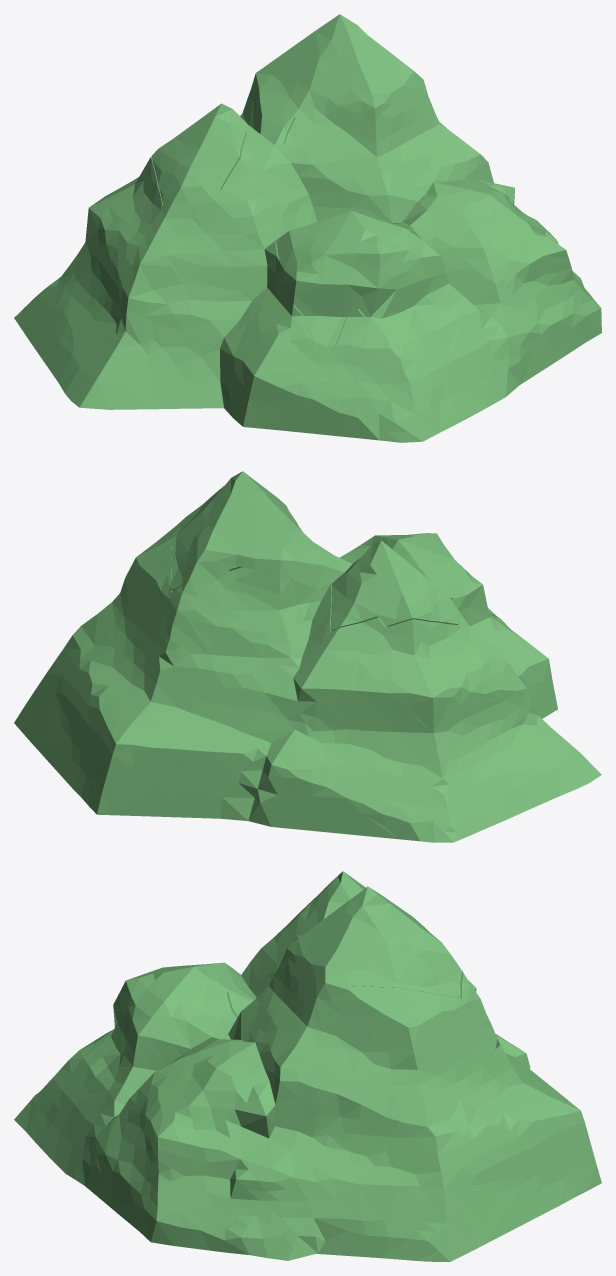
File: Mountains1.glb
3 renders of one model, top to bottom at view 1: azimuth 30°, elevation 25°; view 2: azimuth 150°, elevation 25°; view 3: azimuth 270°, elevation 25°, orthographic. The views are drawn at different scales.
Parts seen in each view (by area): view 1: Mesh_Mesh_head_geo.001_lambert2SG.001; view 2: Mesh_Mesh_head_geo.001_lambert2SG.001; view 3: Mesh_Mesh_head_geo.001_lambert2SG.001.
Part boxes in pixels (left/top/right/bottom): Mesh_Mesh_head_geo.001_lambert2SG.001: left=14, top=14, right=601, bottom=442; Mesh_Mesh_head_geo.001_lambert2SG.001: left=14, top=471, right=601, bottom=842; Mesh_Mesh_head_geo.001_lambert2SG.001: left=14, top=871, right=601, bottom=1261.
Bounding box in the file's own units: 0.194 × 0.101 × 0.192.
